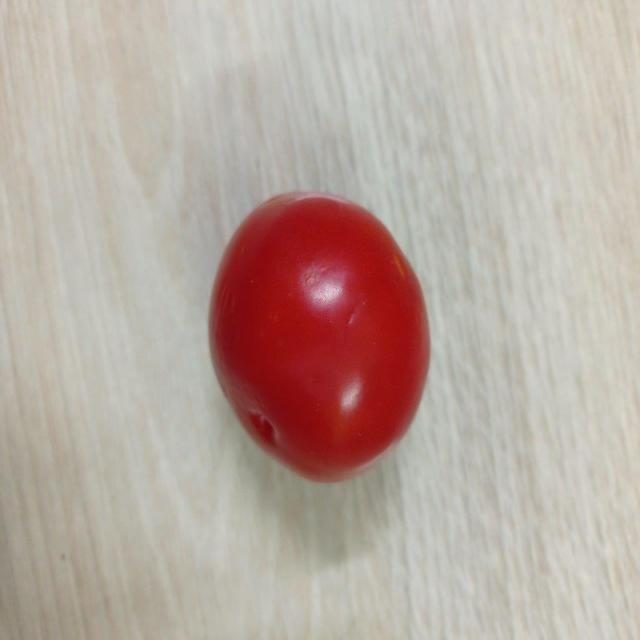Tomato: (206, 187, 432, 485)
